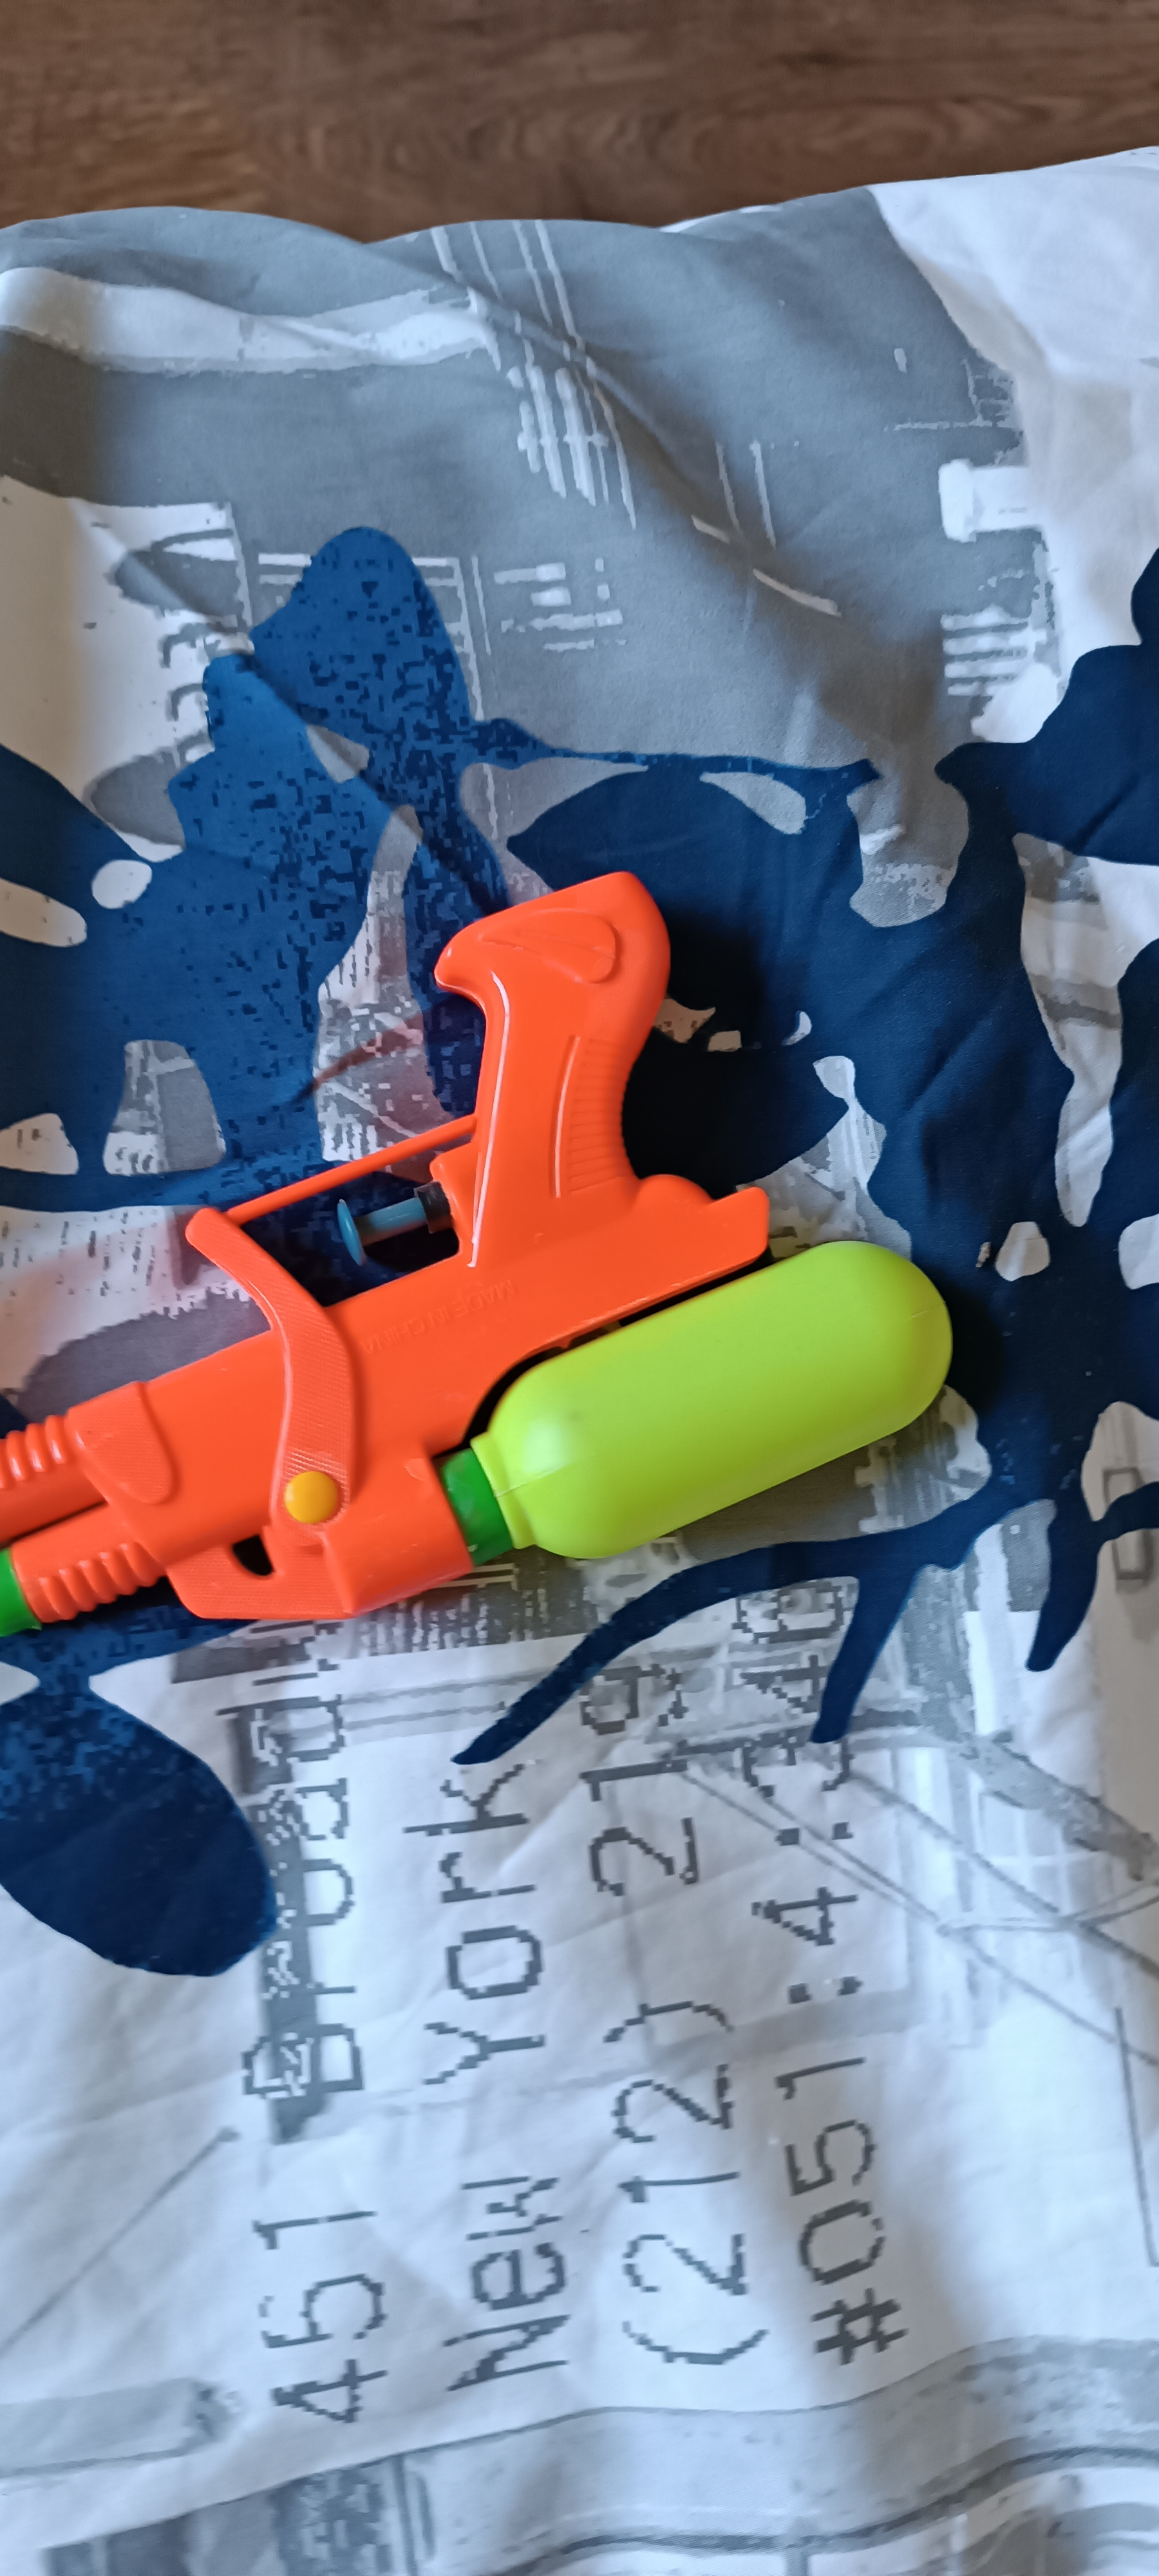Water Gun: (0, 871, 954, 1638)
